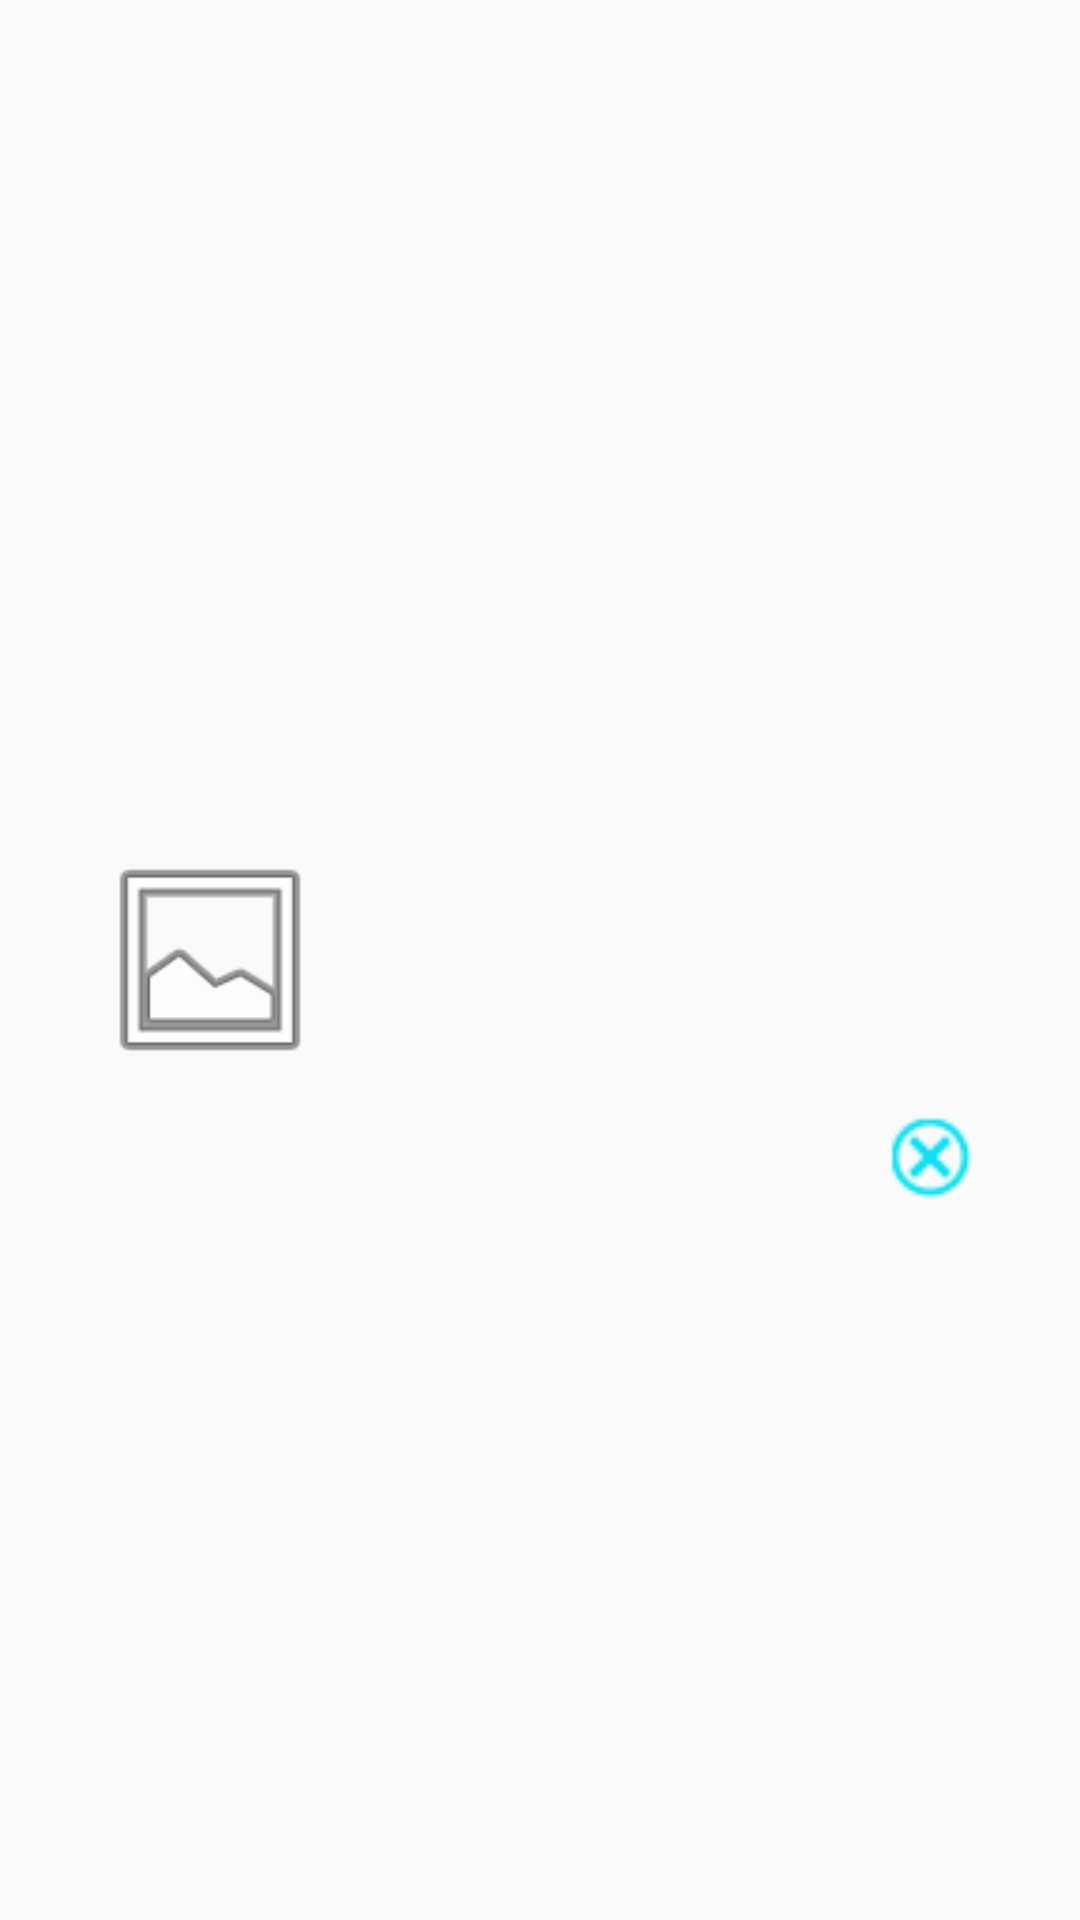

Named icons in this screenshot (1080px x 1920px) and their centers, (x=x, y=y):
delete: (x=931, y=1158)
gallery: (x=210, y=960)
